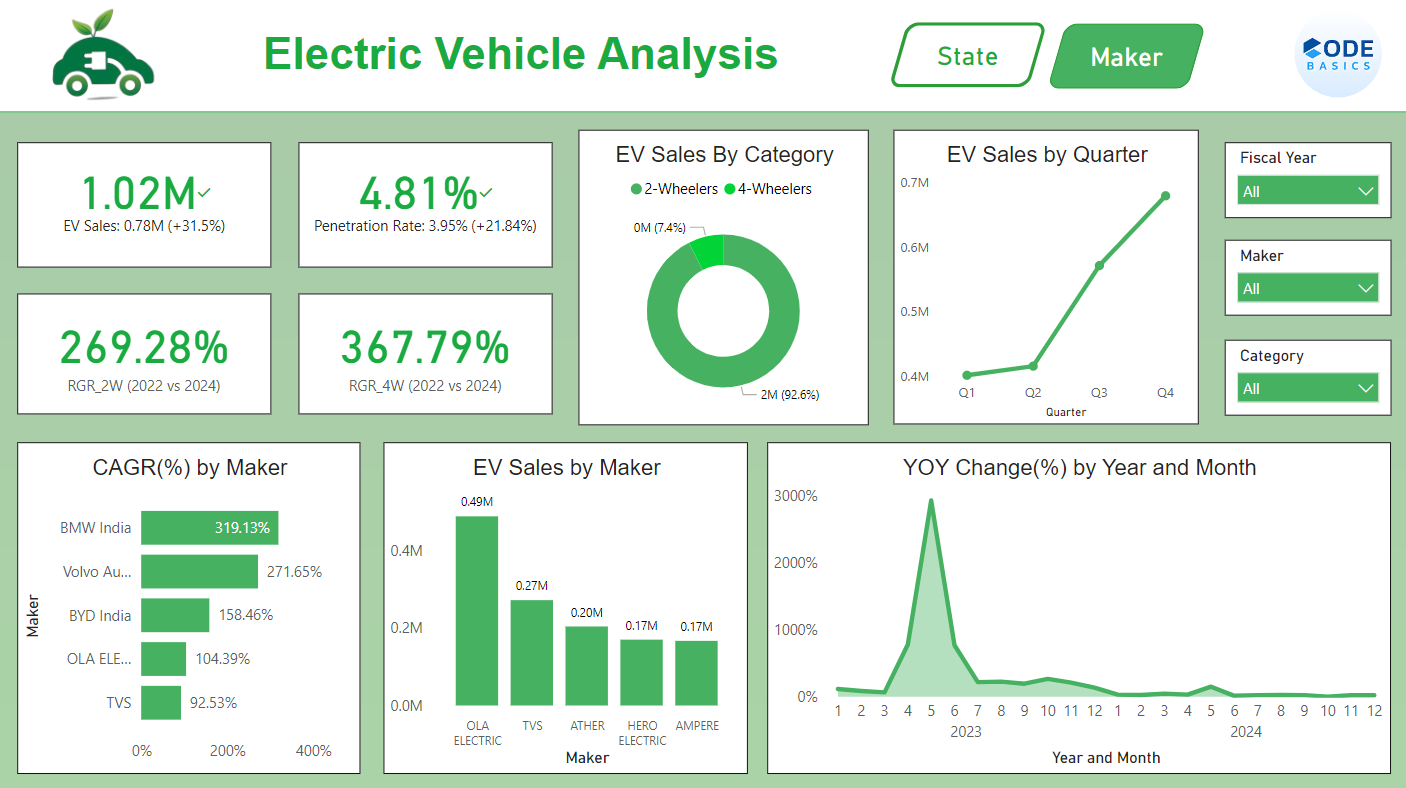

Layout of this report page (visuals, bound fields, positions):
{"tool":"powerbi","page":{"name":"Electric Vehicle Analysis Maker","canvas":[1280,720],"ordinal":1},"visuals":[{"type":"shape","box":[0,0,1280.3,105.7],"z":0},{"type":"lineStackedColumnComboChart","title":"EV Sales by Maker","fields":{"Category":["dim_maker.Maker"],"Y":["Sum(electric_vehicle_sales_by_makers.Electric Vehicles Sold)"]},"box":[351.3,404.8,330.7,300.5],"z":1000},{"type":"shape","box":[179.8,0,591.4,105.7],"z":2000},{"type":"image","box":[1169.1,8.2,96.1,89.2],"z":3000},{"type":"lineChart","title":"EV Sales by Quarter","fields":{"Category":["dim_date.Quarter"],"Y":["Sum(electric_vehicle_sales_by_makers.Electric Vehicles Sold)"]},"box":[813.7,122.1,277.2,266.2],"z":4000},{"type":"lineChart","title":"YOY Change(%) by Year and Month","fields":{"Category":["dim_date.Fiscal Year","dim_date.Month"],"Y":["Key Measures.YoY_Change(%)"]},"box":[699.8,404.8,565.4,300.5],"z":5000},{"type":"barChart","title":"CAGR(%) by Maker","fields":{"Category":["dim_maker.Maker"],"Y":["Key Measures.CAGR"]},"box":[19.2,404.8,311.5,300.5],"z":6000},{"type":"shape","box":[809.6,23.3,144.1,59],"z":7000},{"type":"shape","box":[953.7,24.7,144.1,59],"z":8000},{"type":"slicer","fields":{"Values":["dim_date.Fiscal Year"]},"box":[1114.2,133.1,150.9,68.6],"z":9000},{"type":"slicer","fields":{"Values":["dim_vehicle_category.Vehicle Category"]},"box":[1114.2,311.5,150.9,68.6],"z":10000},{"type":"kpi","fields":{"Goal":["Key Measures.EV_Sales(2023)"],"Indicator":["Key Measures.Current_EV_Sales"],"TrendLine":["dim_date.Fiscal Year"]},"box":[19.2,133.1,230.5,113.9],"z":11000},{"type":"kpi","fields":{"TrendLine":["dim_date.Fiscal Year"],"Goal":["Key Measures.Penetration_Rate(2023)"],"Indicator":["Key Measures.Current_Penetration_Rate"]},"box":[274.4,133.1,230.5,113.9],"z":12000},{"type":"card","fields":{"Values":["Key Measures.Revenue_Growth_Rate_2W(2022 vs 2024)"]},"box":[19.2,270.3,230.5,109.8],"z":13000},{"type":"card","fields":{"Values":["Key Measures.Revenue_Growth_Rate_4W(2022 vs 2024)"]},"box":[274.4,270.3,230.5,109.8],"z":14000},{"type":"slicer","fields":{"Values":["dim_maker.Maker"]},"box":[1114.2,220.9,150.9,68.6],"z":15000},{"type":"image","box":[19.2,0,156.4,105.7],"z":16000},{"type":"donutChart","title":"EV Sales By Category","fields":{"Category":["dim_vehicle_category.Vehicle Category"],"Y":["Sum(electric_vehicle_sales_by_makers.Electric Vehicles Sold)"]},"box":[526.9,122.1,263.5,266.2],"z":17000}]}

Visuals, with their boxes in screenshot pixels (x1, y1, x2, y2), scaled from the page's 1280x720 canvas onto the 1406x788 screenshot:
shape: Rect(0, 0, 1405, 116)
"EV Sales by Maker" lineStackedColumnComboChart: Rect(386, 443, 749, 772)
shape: Rect(197, 0, 847, 116)
image: Rect(1284, 9, 1390, 107)
"EV Sales by Quarter" lineChart: Rect(894, 134, 1198, 425)
"YOY Change(%) by Year and Month" lineChart: Rect(769, 443, 1390, 772)
"CAGR(%) by Maker" barChart: Rect(21, 443, 363, 772)
shape: Rect(889, 26, 1048, 90)
shape: Rect(1048, 27, 1206, 92)
slicer - dim_date.Fiscal Year: Rect(1224, 146, 1390, 221)
slicer - dim_vehicle_category.Vehicle Category: Rect(1224, 341, 1390, 416)
kpi - Key Measures.EV_Sales(2023) x Key Measures.Current_EV_Sales: Rect(21, 146, 274, 270)
kpi - dim_date.Fiscal Year x Key Measures.Penetration_Rate(2023): Rect(301, 146, 555, 270)
card - Key Measures.Revenue_Growth_Rate_2W(2022 vs 2024): Rect(21, 296, 274, 416)
card - Key Measures.Revenue_Growth_Rate_4W(2022 vs 2024): Rect(301, 296, 555, 416)
slicer - dim_maker.Maker: Rect(1224, 242, 1390, 317)
image: Rect(21, 0, 193, 116)
"EV Sales By Category" donutChart: Rect(579, 134, 868, 425)
